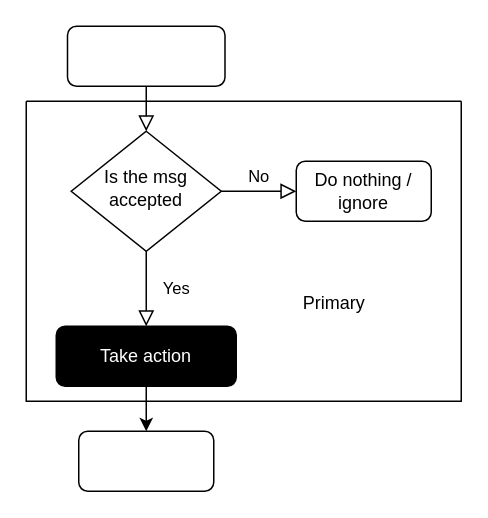
This 488x518 diagram has some shape labels left out. The shapes that lost their labels are listed below. From the top down, each one's centre as x and y in pixels, then its label:
At point 145,55: "msg from elevator".
At point 145,460: "msg to elevator".
